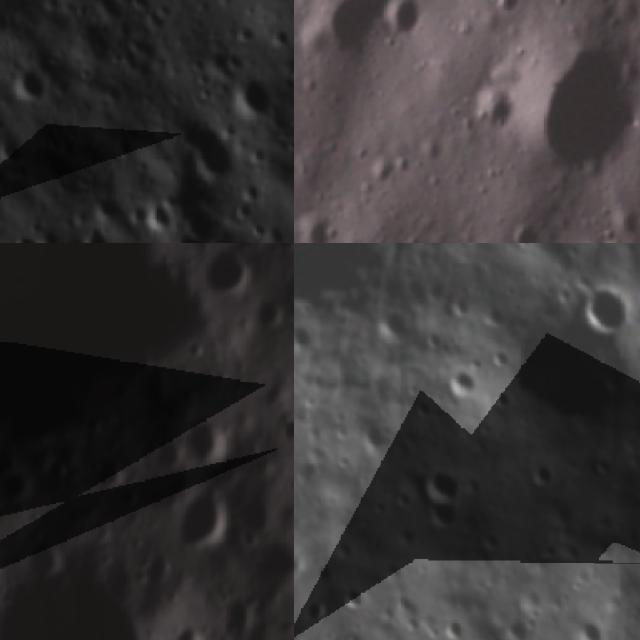crater: (471, 286, 640, 455), (518, 32, 640, 179), (294, 243, 478, 331), (163, 109, 235, 192), (572, 273, 638, 342), (325, 0, 382, 65), (184, 416, 237, 475), (224, 66, 277, 122), (417, 456, 469, 511), (184, 497, 232, 554), (203, 246, 256, 294), (440, 359, 489, 408), (369, 300, 418, 346), (27, 524, 66, 578), (384, 0, 421, 56), (8, 69, 51, 115), (423, 491, 467, 531), (294, 208, 342, 243), (476, 92, 514, 134), (526, 454, 566, 491), (339, 578, 376, 618), (500, 606, 539, 640), (503, 216, 541, 243), (438, 614, 472, 640), (572, 617, 609, 640), (587, 448, 615, 478), (275, 411, 294, 447)
